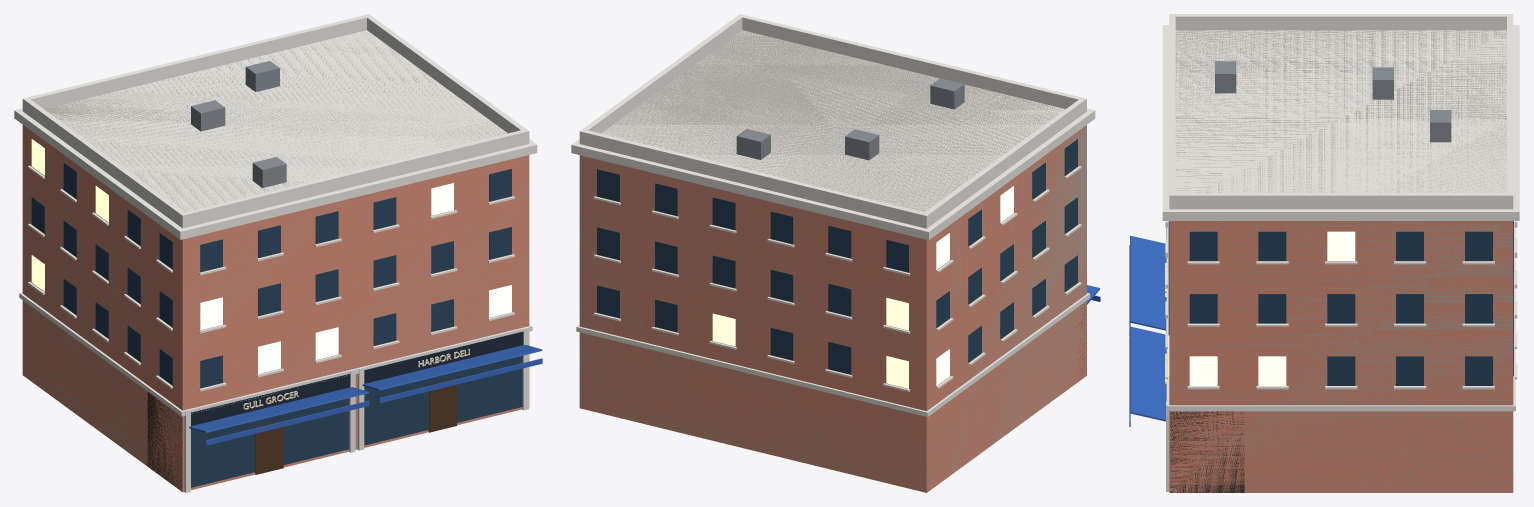
File: BLD_MixedUse_A.fbx
3 views of the same model, side by side, from view 1: azimuth 30°, elevation 25°; view 2: azimuth 150°, elevation 25°; view 3: azimuth 270°, elevation 25° (orthographic). The views are drawn at different scales.
Parts seen in each view (by area): view 1: BLD_MixedUse_A__BODY, BLD_MixedUse_A__COL_Main; view 2: BLD_MixedUse_A__BODY, BLD_MixedUse_A__COL_Main; view 3: BLD_MixedUse_A__BODY, BLD_MixedUse_A__COL_Main.
Boxes of the visible parts, <box> form: BLD_MixedUse_A__BODY: <box>14,14,542,492</box>; BLD_MixedUse_A__COL_Main: <box>22,31,529,491</box>; BLD_MixedUse_A__BODY: <box>571,14,1100,492</box>; BLD_MixedUse_A__COL_Main: <box>579,30,1086,492</box>; BLD_MixedUse_A__BODY: <box>1129,14,1519,492</box>; BLD_MixedUse_A__COL_Main: <box>1169,30,1513,492</box>.
Bounding box in the file's own units: 20.6 × 15.55 × 18.16.
